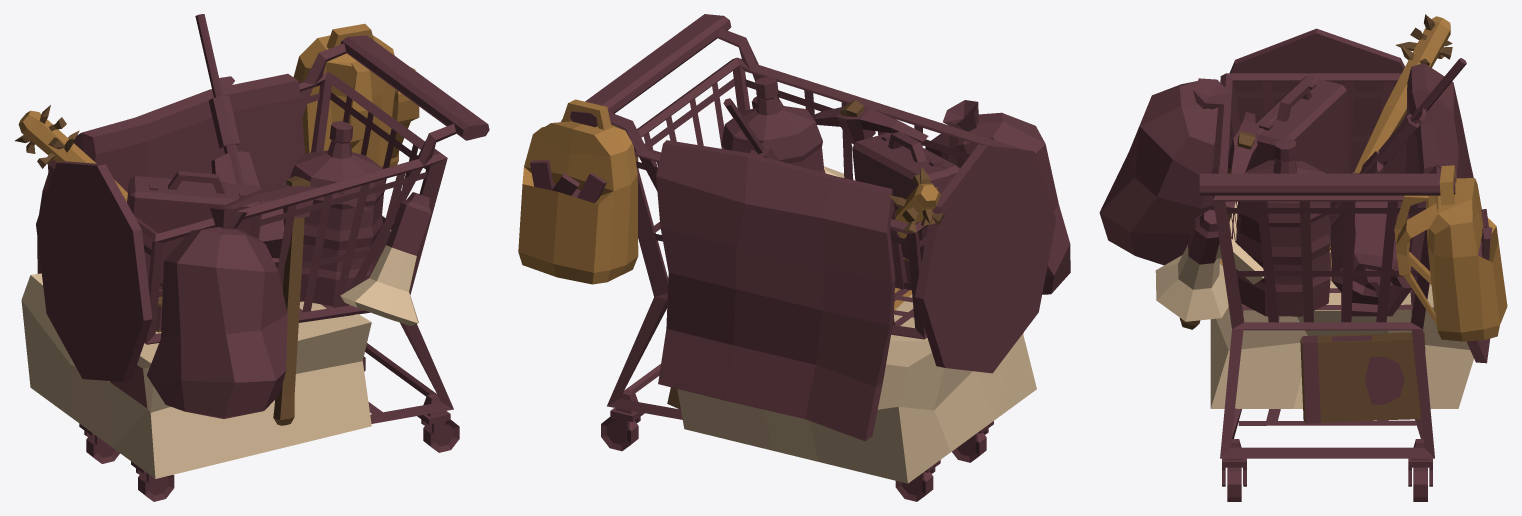
Rendered from shopping-trolley-apocalypse.fbx.
3 renders of one model, left to right at view 1: azimuth 30°, elevation 25°; view 2: azimuth 150°, elevation 25°; view 3: azimuth 270°, elevation 25°, orthographic. The views are drawn at different scales.
Parts seen in each view (by area): view 1: shopping-trolley-apocalypse; view 2: shopping-trolley-apocalypse; view 3: shopping-trolley-apocalypse.
Part boxes in pixels (x1,y1,x2,y2): shopping-trolley-apocalypse: (15, 14, 489, 501); shopping-trolley-apocalypse: (518, 14, 1070, 501); shopping-trolley-apocalypse: (1099, 14, 1507, 501).
Bounding box in the file's own units: 1.33 × 1.27 × 1.23.
